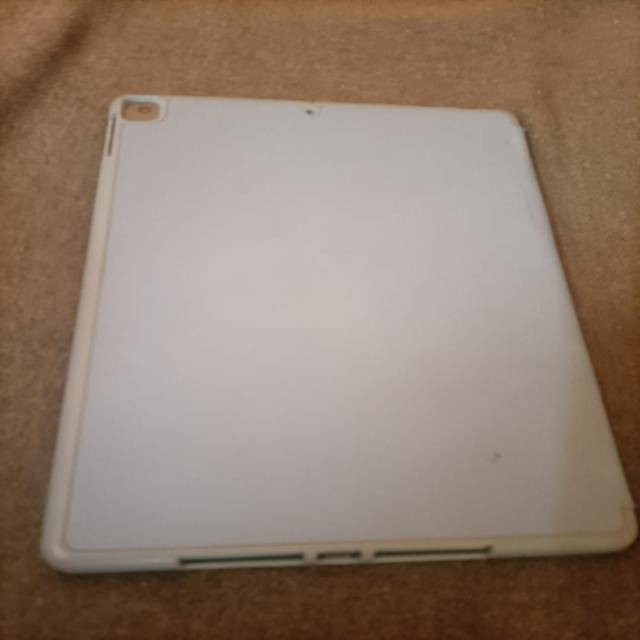tablet: (11, 20, 640, 623)
